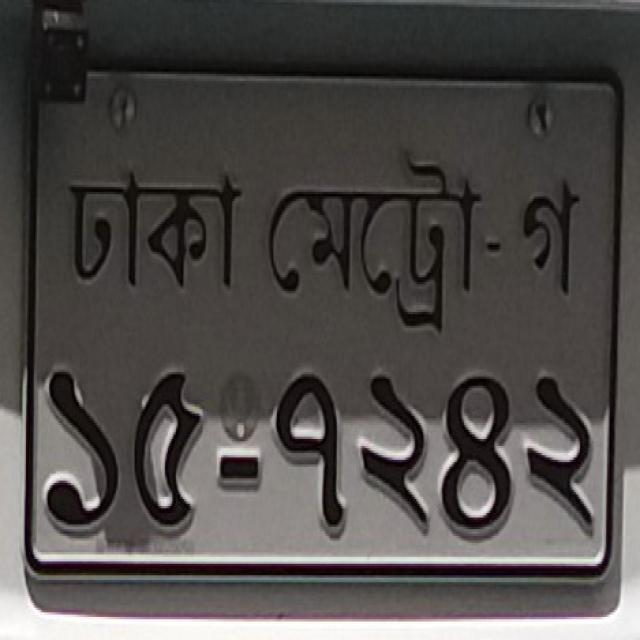numberplate: (17, 4, 633, 621)
